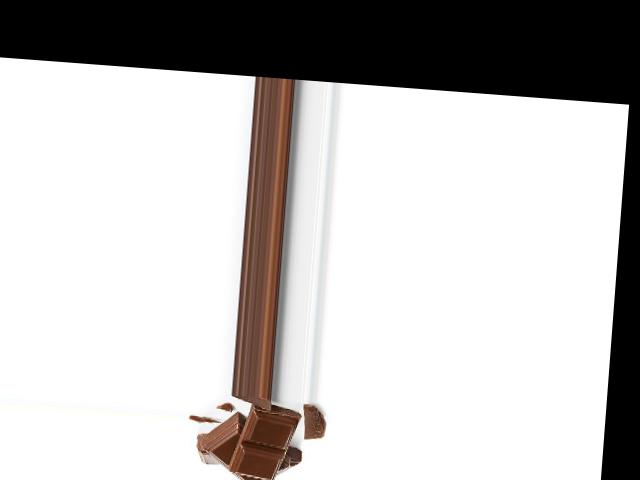chocolate: (227, 403, 298, 479)
